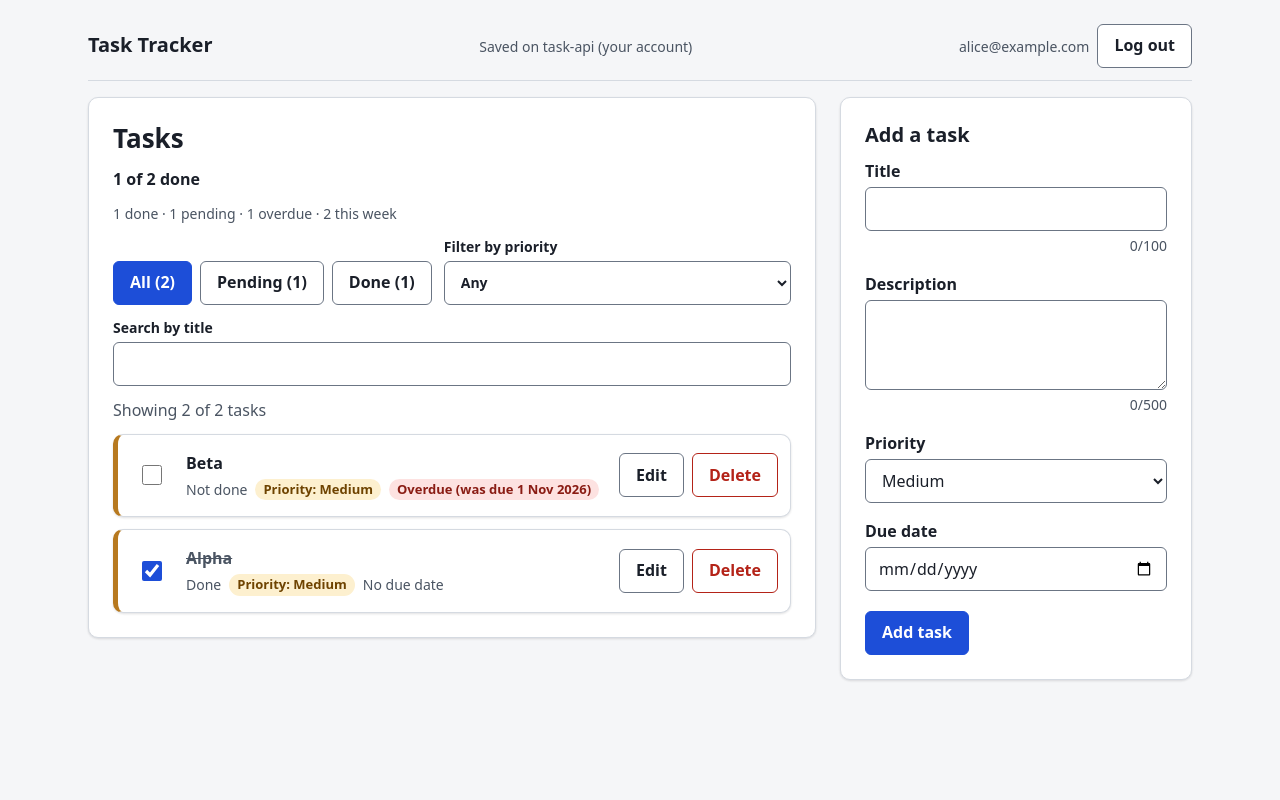
Test: stats bar › shows the numbers for the browser time zone and refreshes after an add
Check: the text "1 done · 1 pending · 1 overdue · 2 this week" is shown, box [113, 204, 397, 222]
Type "Gamma" into the field labelled "Title" at (1016, 209), box [865, 187, 1167, 231]
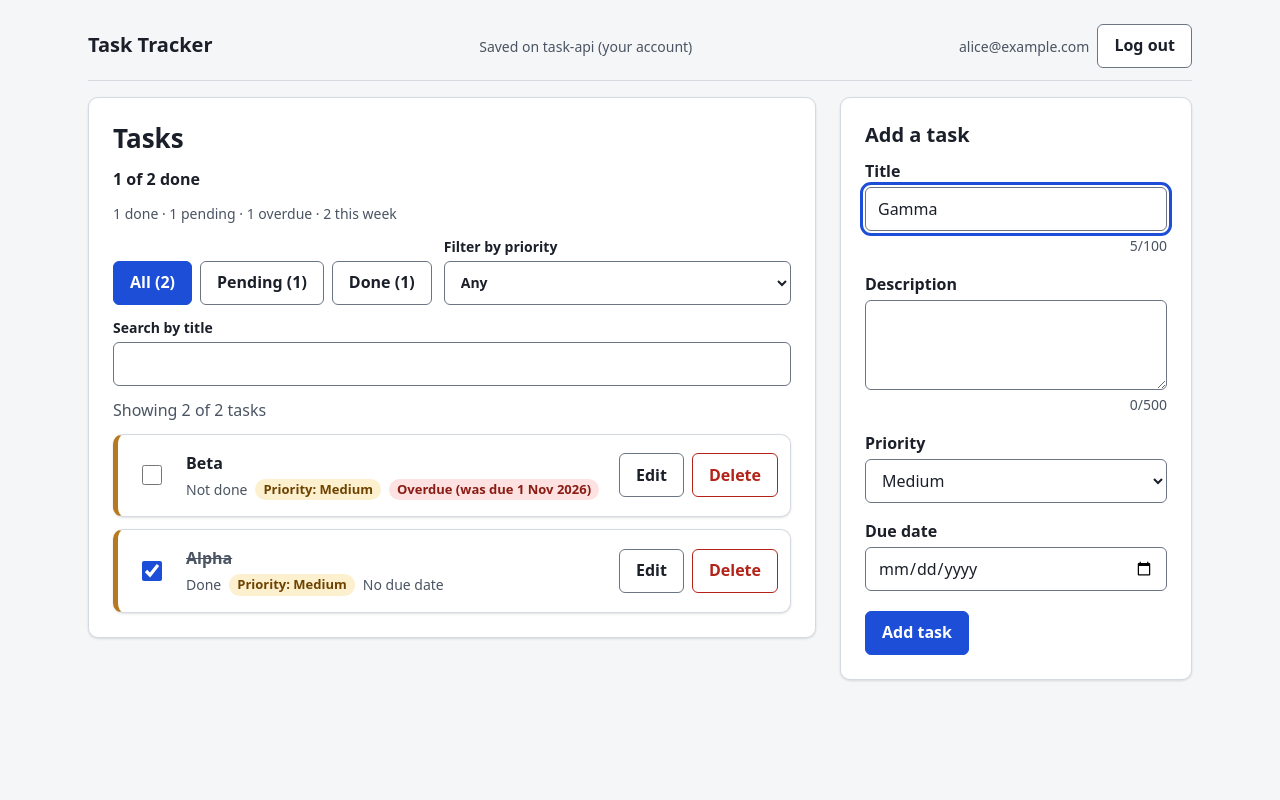
Click the button "Add task" at (917, 633), box [865, 611, 969, 655]
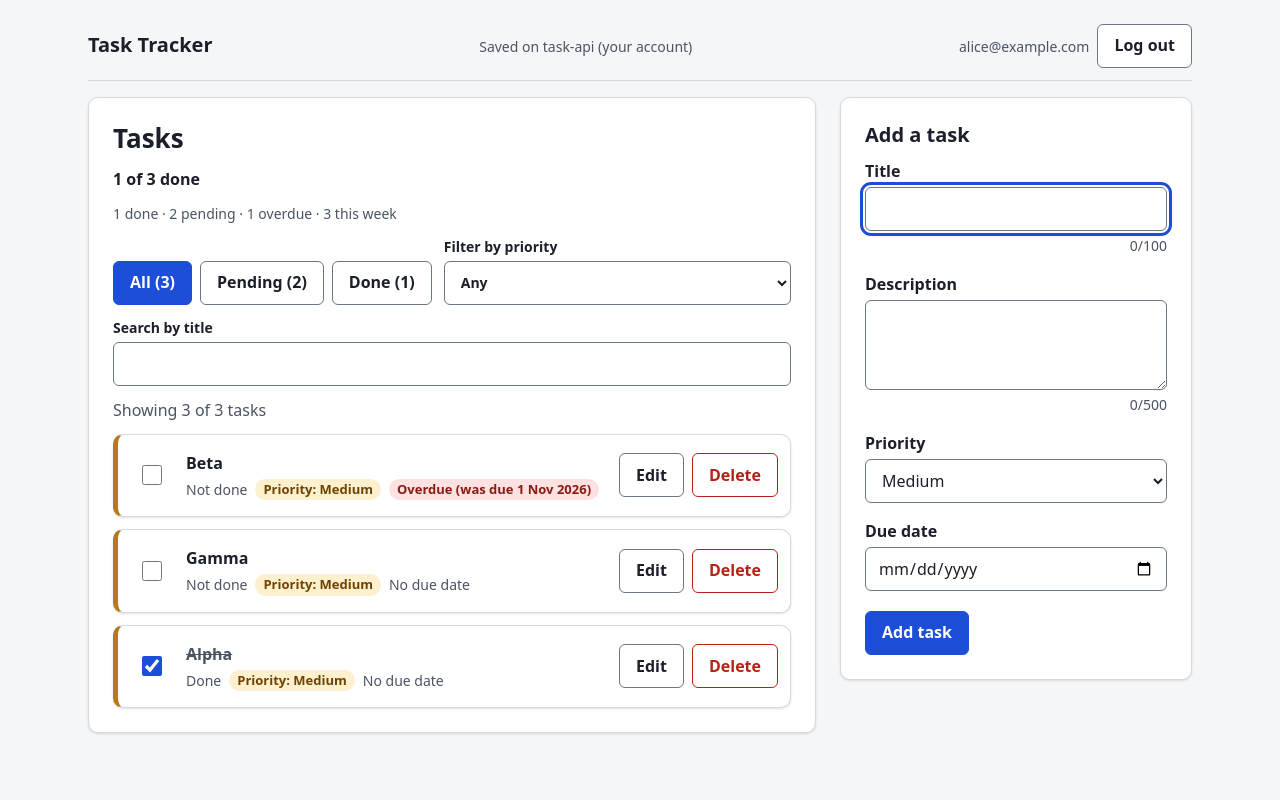
Check: the text "1 done · 2 pending · 1 overdue · 3 this week" is shown, box [113, 204, 397, 222]
